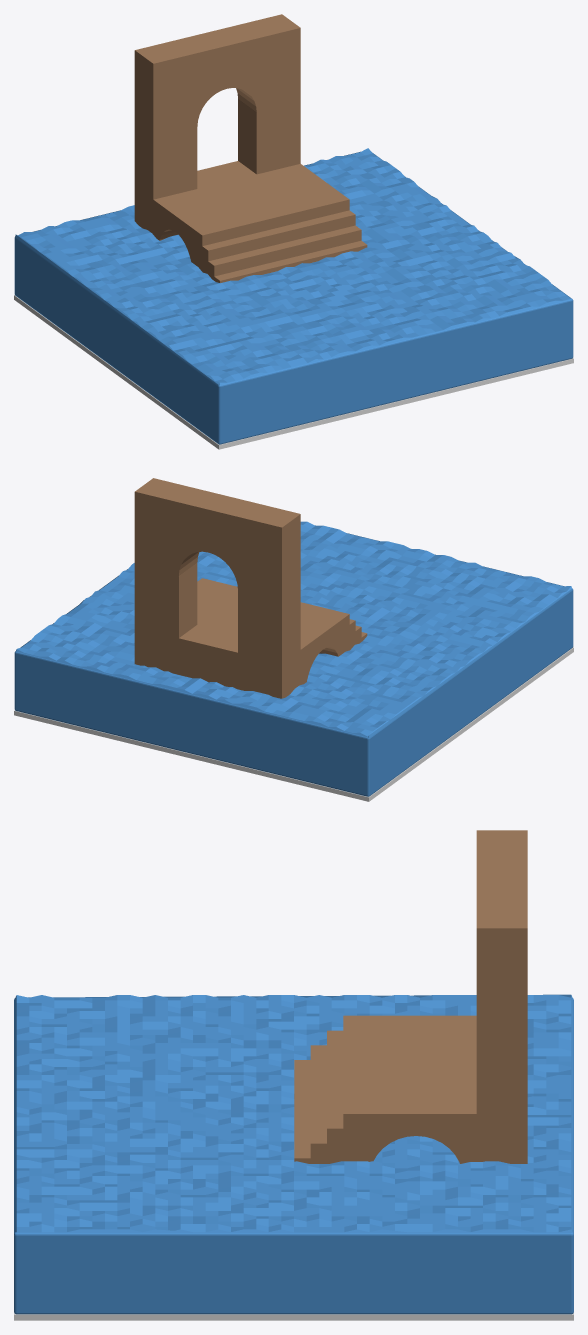
Rendered from step_02_stair.glb.
3 renders of one model, top to bottom at view 1: azimuth 30°, elevation 25°; view 2: azimuth 150°, elevation 25°; view 3: azimuth 270°, elevation 25°, orthographic. The views are drawn at different scales.
Visible parts, largest first — view 1: water, stair, bottom; view 2: water, stair, bottom; view 3: water, stair, bottom.
Boxes of the visible parts, box(x1,y1,x2,y2) form: water: box(14, 148, 573, 444); stair: box(134, 14, 367, 282); bottom: box(14, 295, 573, 449); water: box(14, 521, 573, 796); stair: box(134, 478, 367, 698); bottom: box(14, 647, 573, 801); water: box(14, 994, 573, 1314); stair: box(294, 830, 527, 1163); bottom: box(14, 1312, 573, 1320).
Bounding box in the file's own units: 27.2 × 17.32 × 27.2.
